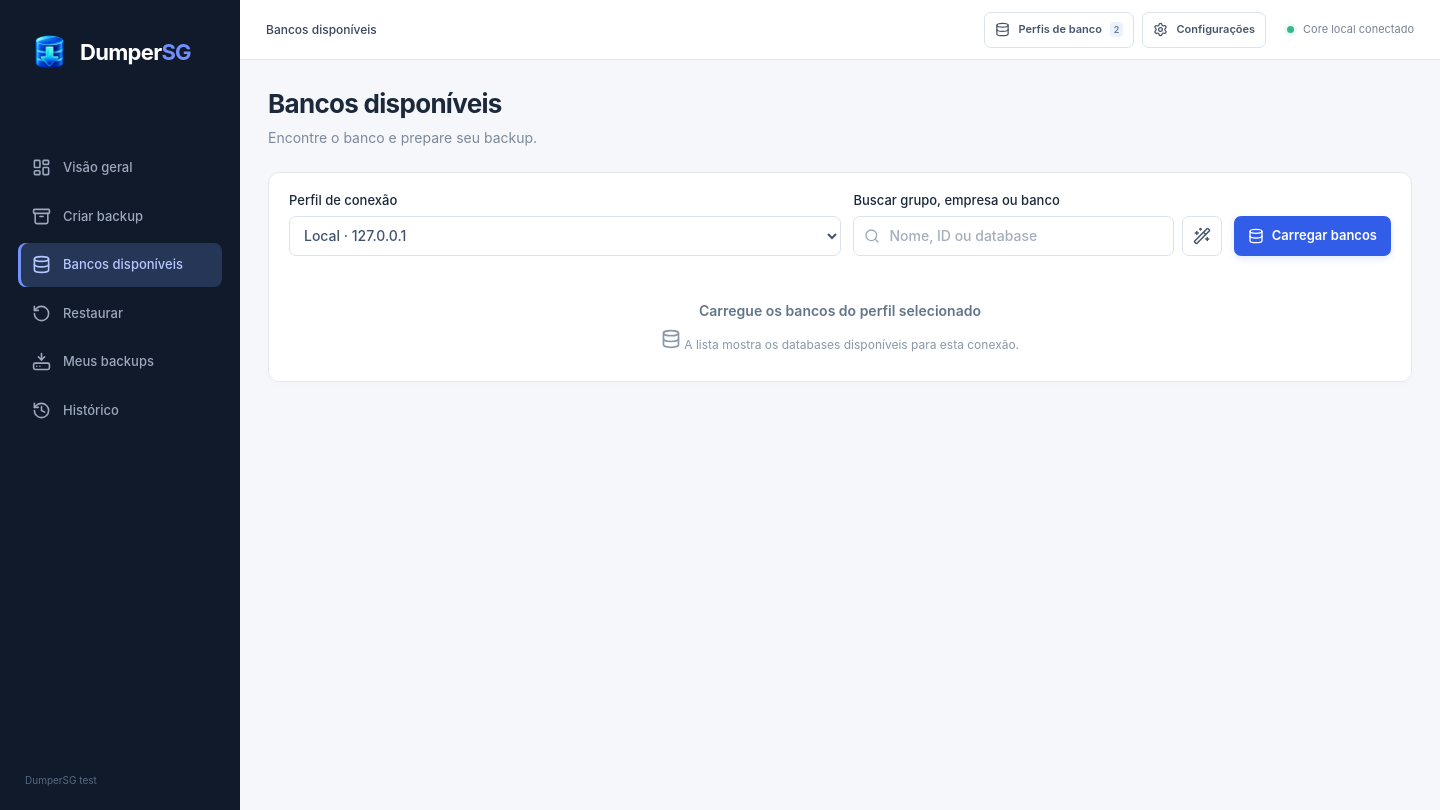
Test case: seleção da origem pelo catálogo › leva perfil e database para o formulário, preserva opções e não inicia backup
The image size is (1440, 810).
expect the heading "Bancos disponíveis" is shown: met, box [268,88,537,119]
Select "Outro servidor · 127.0.0.1" in the dropdown labelled "Perfil de conexão" at (565, 236), box [289,216,842,256]
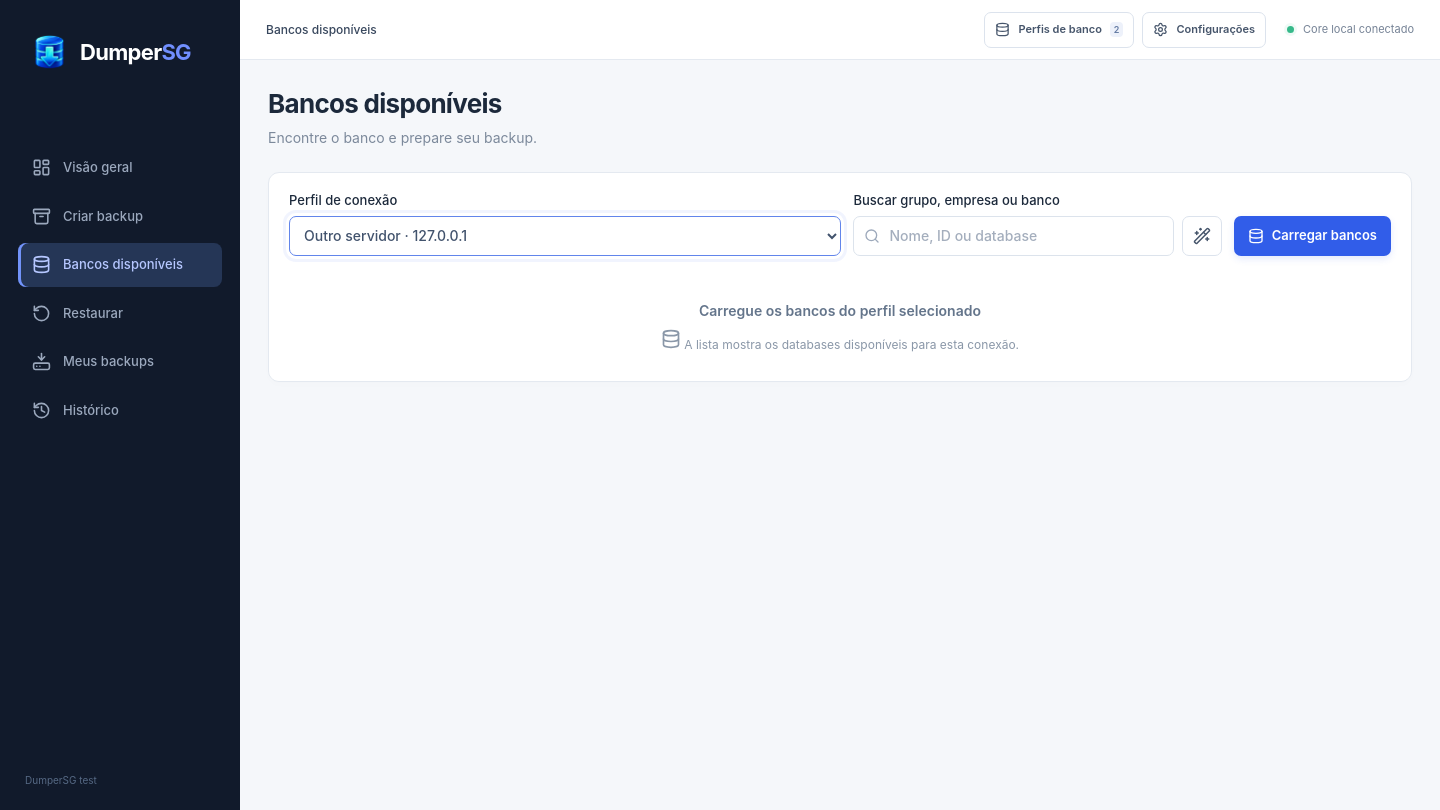
Click the button "Carregar bancos" at (1312, 236), box [1234,216,1391,256]
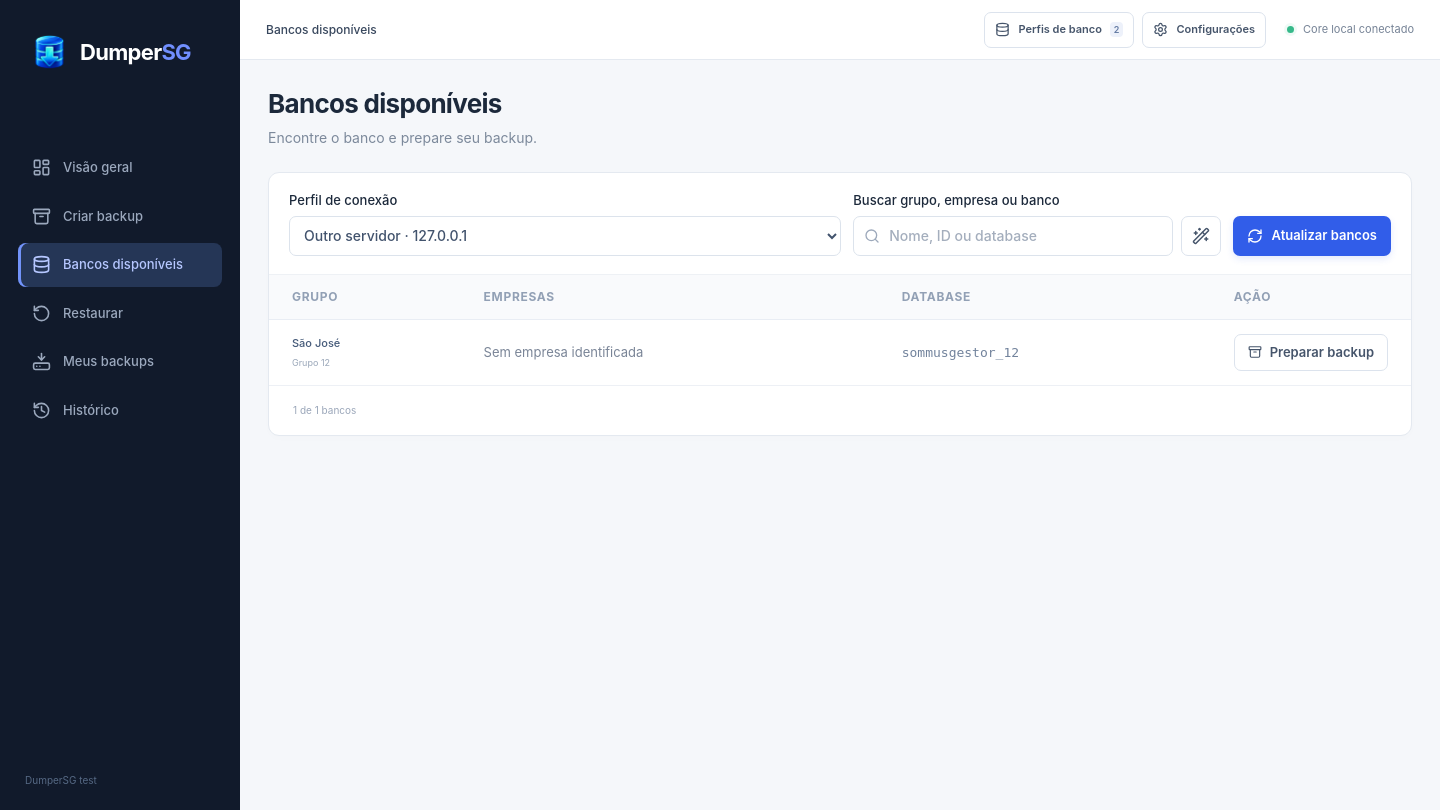
Click the button with aria-label "Preparar backup de São José" at (1311, 352), box [1234,334,1388,371]
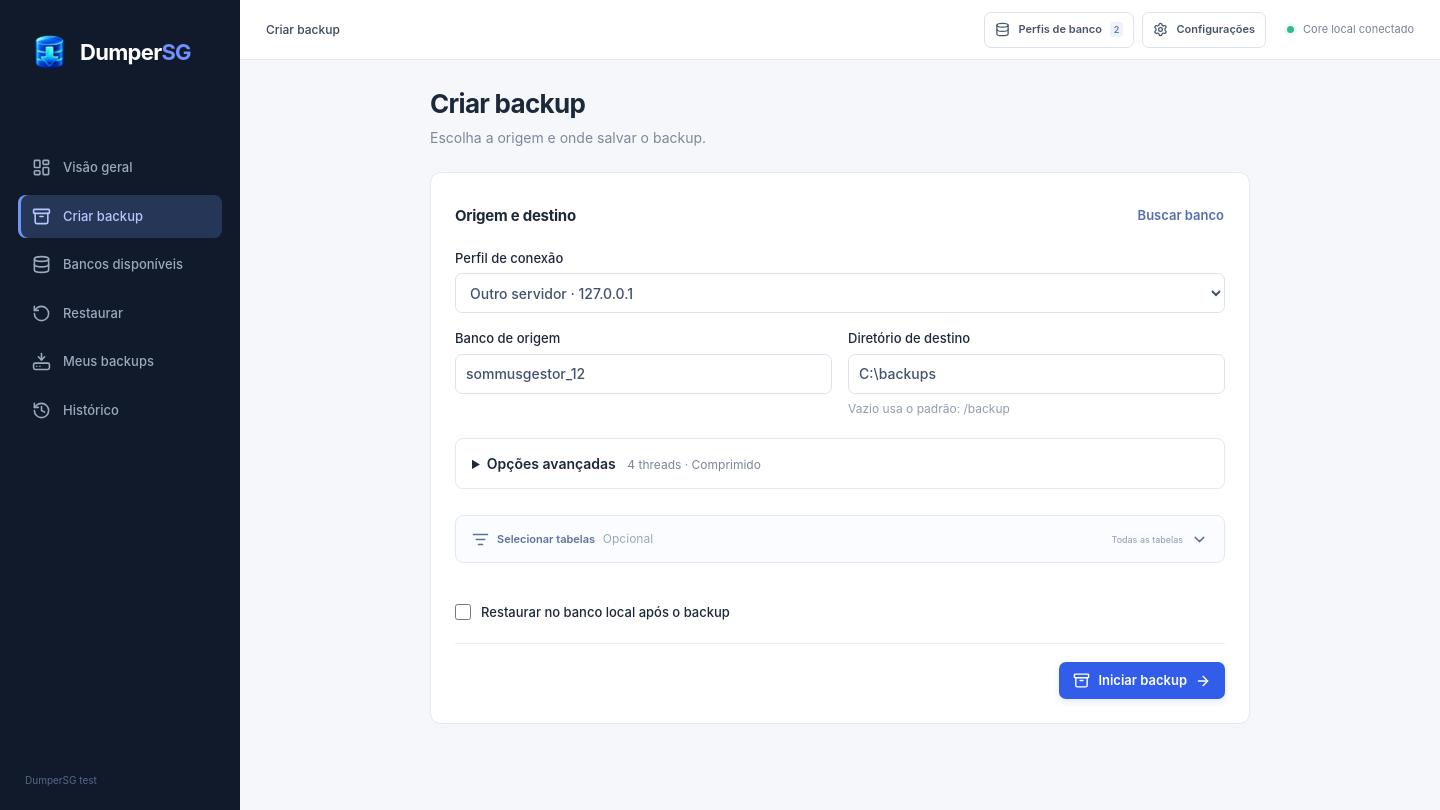
expect the dropdown labelled "Perfil de conexão" shows "Outro servidor · 127.0.0.1": met, box [455,273,1225,313]
expect the field labelled "Banco de origem" holds "sommusgestor_12": met, box [455,354,832,394]
expect the field labelled "Diretório de destino Vazio usa o padrão: /backup" holds "C:\\backups": met, box [848,354,1225,394]
